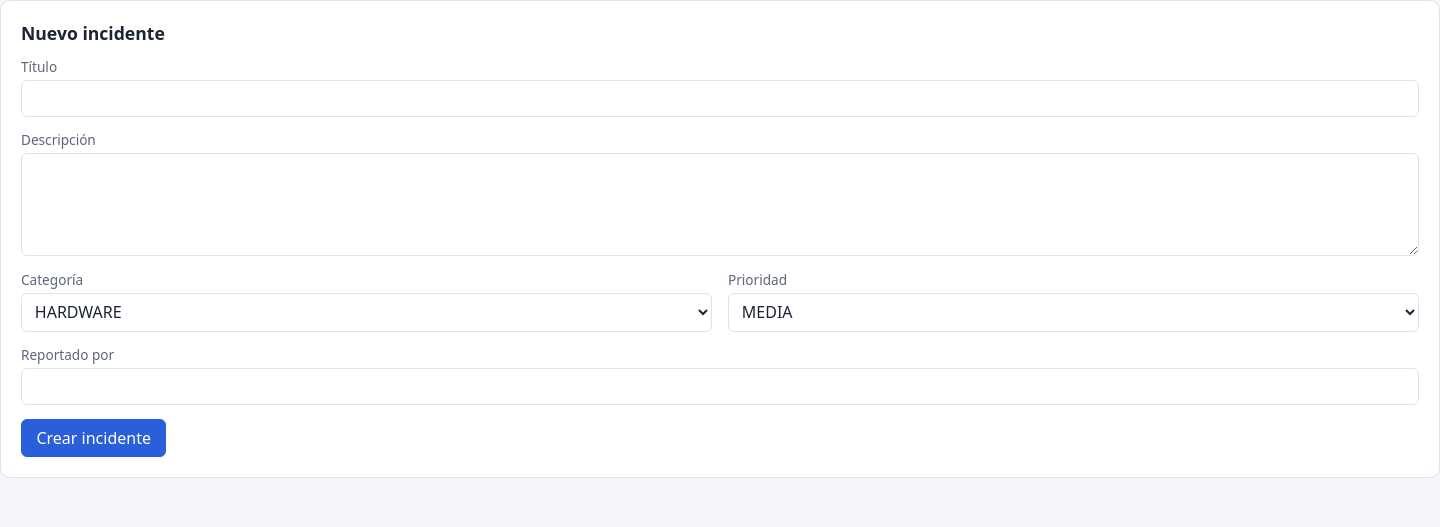
IncidentForm › muestra el error devuelto por el servidor
Type "Algo" into the field labelled "Título" at point(720, 98), box [21, 80, 1419, 117]
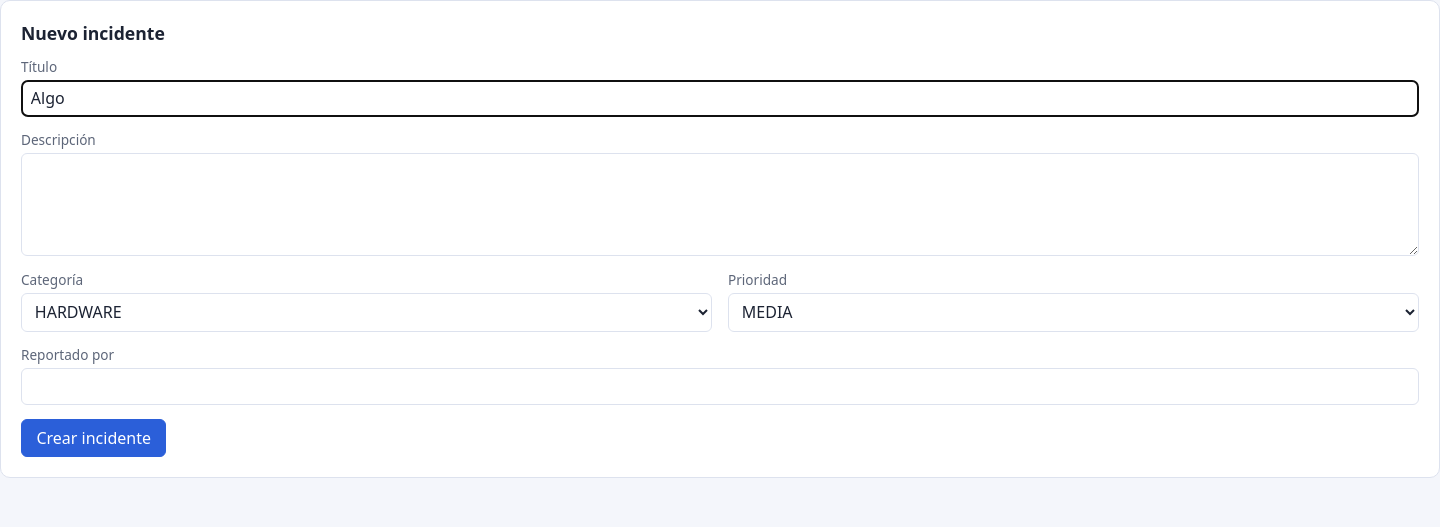
Type "Descripción larga" into the text box labelled "Descripción" at point(720, 205), box [21, 153, 1419, 256]
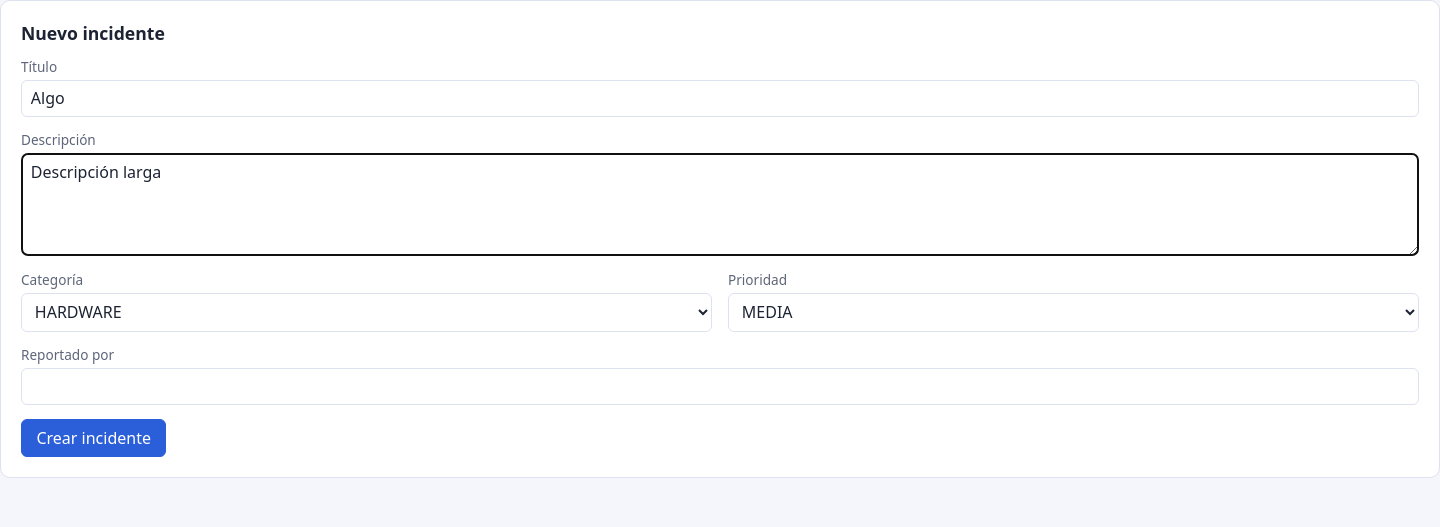
Type "Pedro" into the field labelled "Reportado por" at point(720, 386), box [21, 368, 1419, 405]
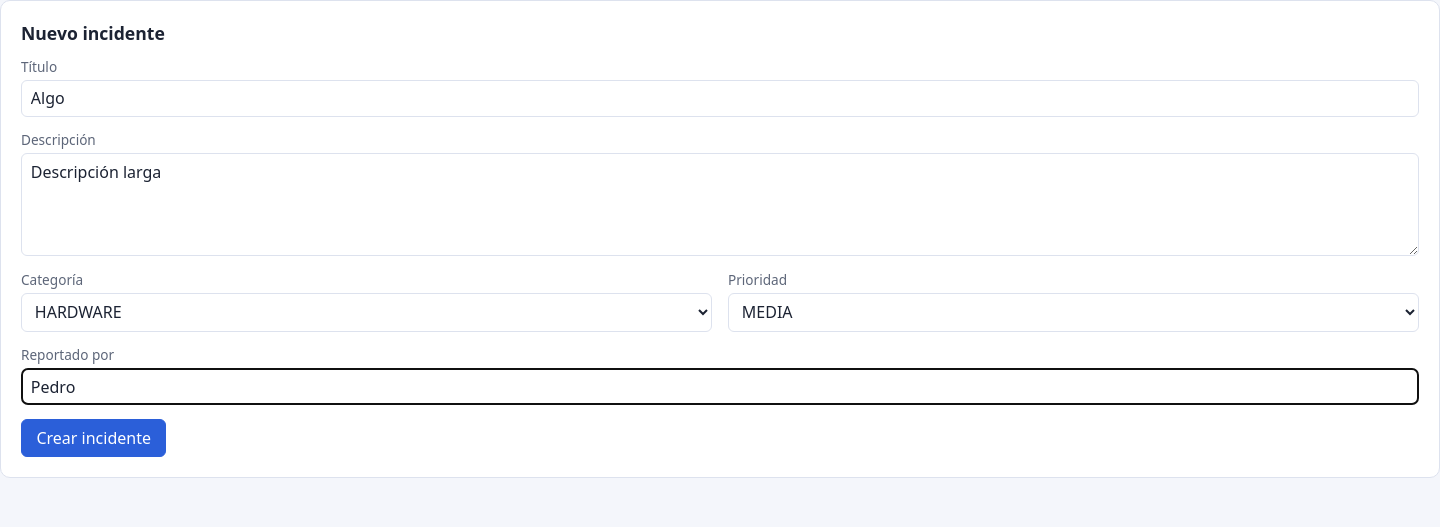
Click the button "Crear incidente" at point(94, 438), box [21, 418, 166, 457]
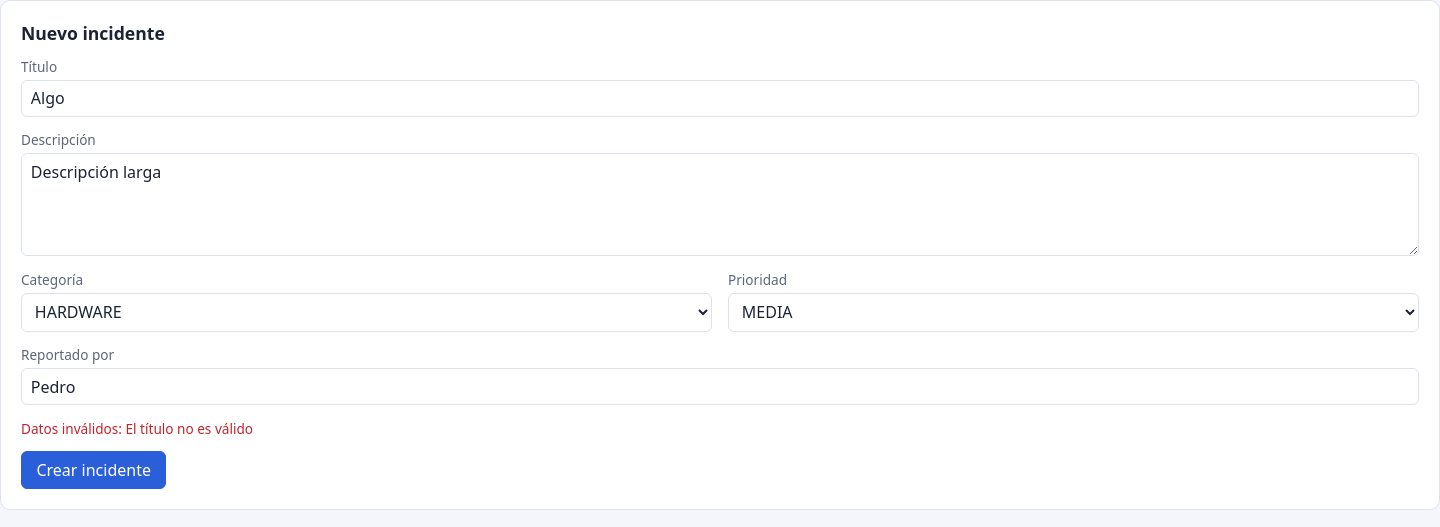
Expected: the message shows "El título no es válido", [21, 418, 253, 438]
